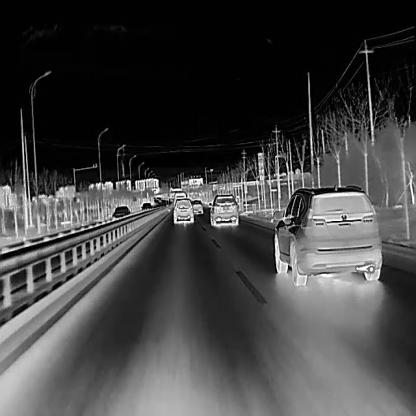car: (273, 184, 381, 286), (208, 192, 238, 225), (172, 196, 193, 224), (110, 205, 131, 222), (191, 198, 203, 214), (139, 201, 153, 213)
